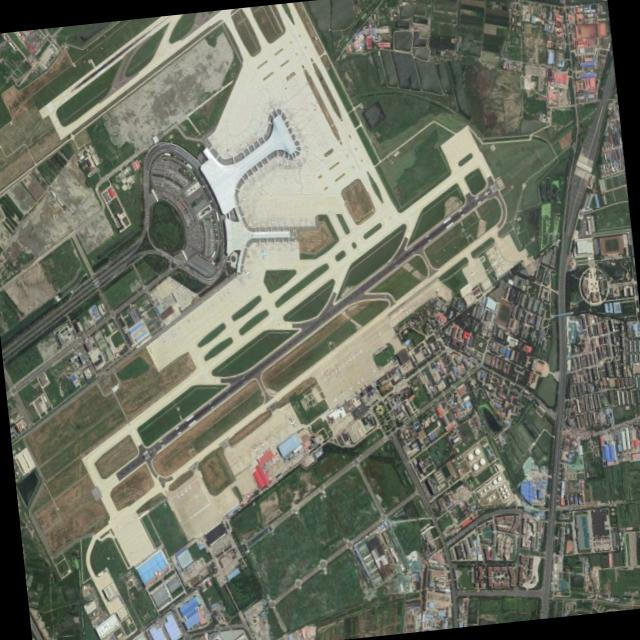storage-tank: (471, 462, 480, 470), (474, 446, 481, 454), (467, 452, 474, 459), (492, 477, 498, 485), (480, 457, 486, 464), (497, 475, 502, 480), (502, 483, 507, 487), (487, 484, 491, 488), (492, 493, 496, 497), (503, 493, 506, 497), (479, 490, 483, 493), (483, 488, 487, 491), (499, 486, 503, 489), (488, 497, 491, 500), (501, 490, 504, 493), (505, 487, 508, 490), (506, 491, 510, 493)
